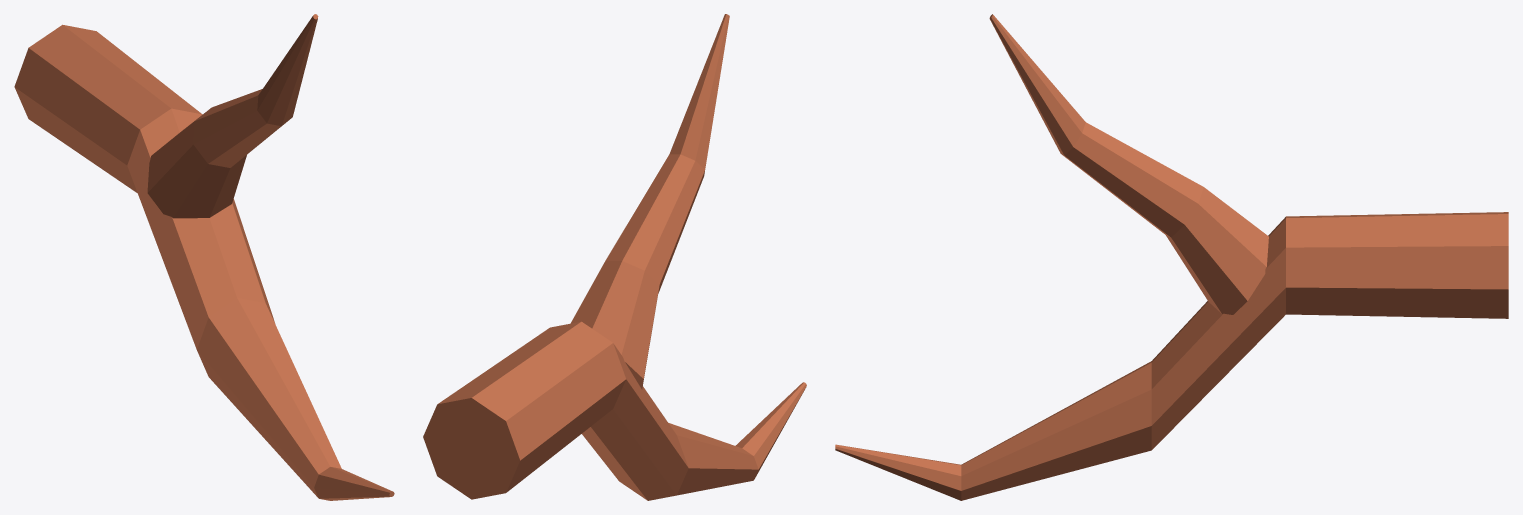
File: Branch7.fbx
3 views of the same model, side by side, from view 1: azimuth 30°, elevation 25°; view 2: azimuth 150°, elevation 25°; view 3: azimuth 270°, elevation 25° (orthographic). The views are drawn at different scales.
Visible parts, largest first — view 1: Branch; view 2: Branch; view 3: Branch.
Part boxes in pixels (left/top/right/bottom): Branch: left=14, top=14, right=394, bottom=500; Branch: left=423, top=14, right=806, bottom=500; Branch: left=835, top=14, right=1508, bottom=500.
Bounding box in the file's own units: 109 × 515 × 646.
